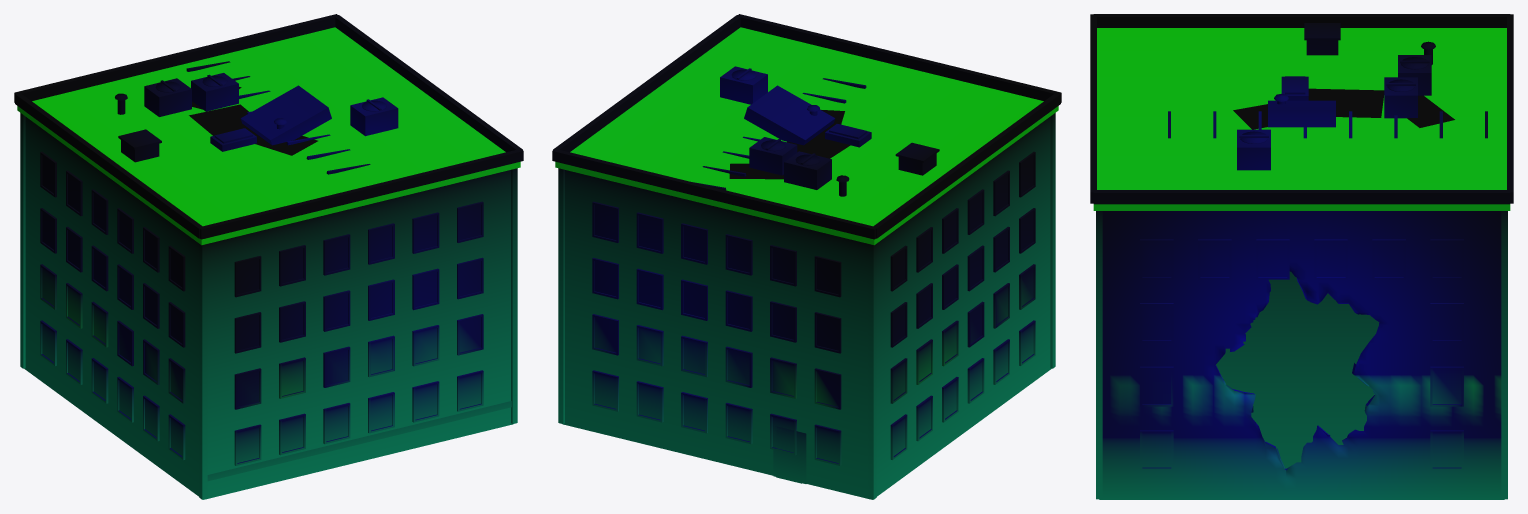
The model's file is city4storya_damaged.glb.
The picture shows the model from 3 angles, left to right: view 1: azimuth 30°, elevation 25°; view 2: azimuth 150°, elevation 25°; view 3: azimuth 270°, elevation 25°; orthographic projection. The views are drawn at different scales.
Parts seen in each view (by area): view 1: lod0; view 2: lod0; view 3: lod0.
Boxes of the visible parts, left/top/right/bottom form: lod0: left=14, top=14, right=523, bottom=499; lod0: left=552, top=14, right=1061, bottom=499; lod0: left=1090, top=14, right=1513, bottom=499.
Size of what is drawn, in the model's own units: 18.7 by 15.95 by 18.7.
